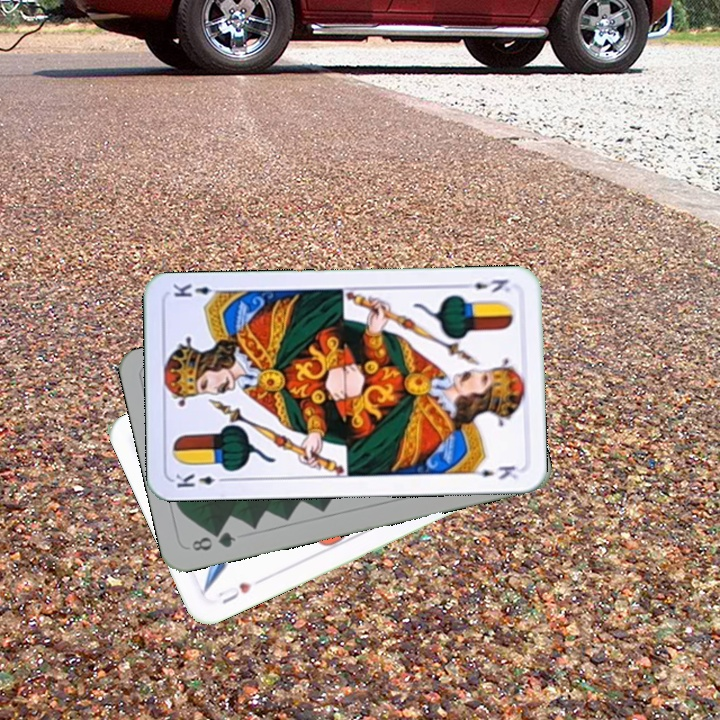EK: (171, 469, 231, 490), (458, 275, 513, 295)
G8: (187, 527, 239, 554)
HU: (213, 578, 255, 607)
